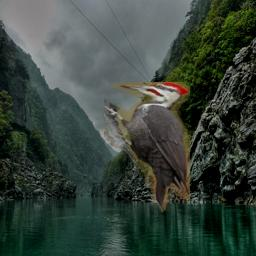Woodpecker: (104, 82, 190, 212)
